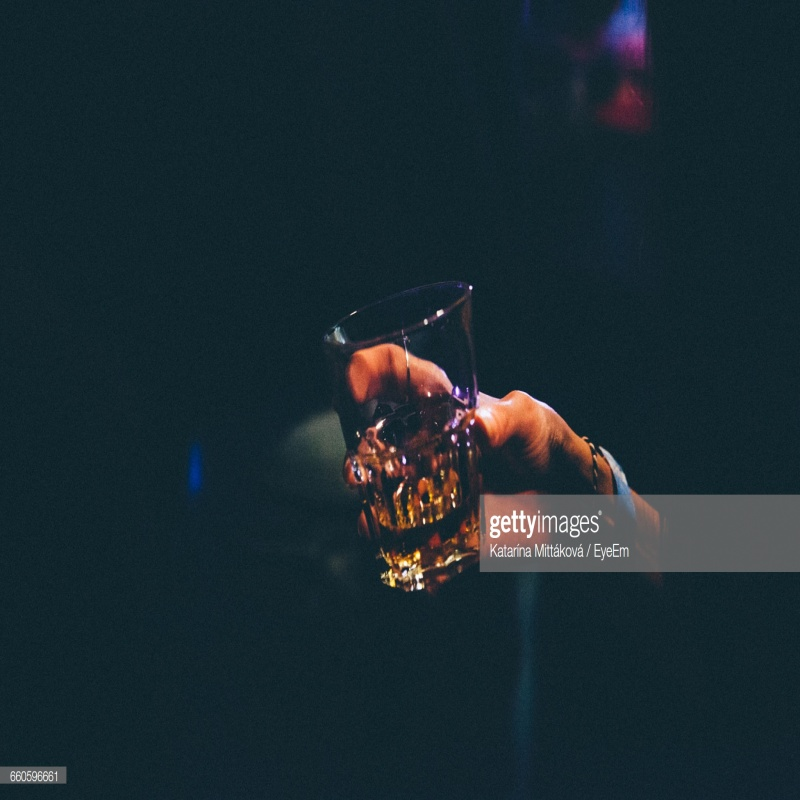whiskey: (331, 282, 498, 592)
